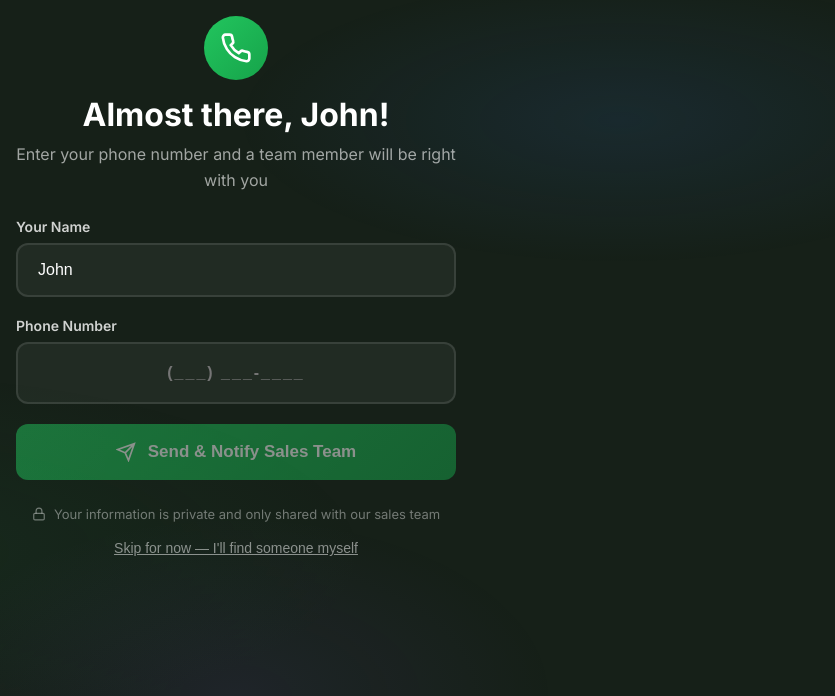
Test case: CustomerHandoff Component › Phone Input Behavior › formats phone number as (xxx) xxx-xxxx
In the field with placeholder "(___) ___-____": (236, 373) [16, 342, 456, 404], type "6175551234"
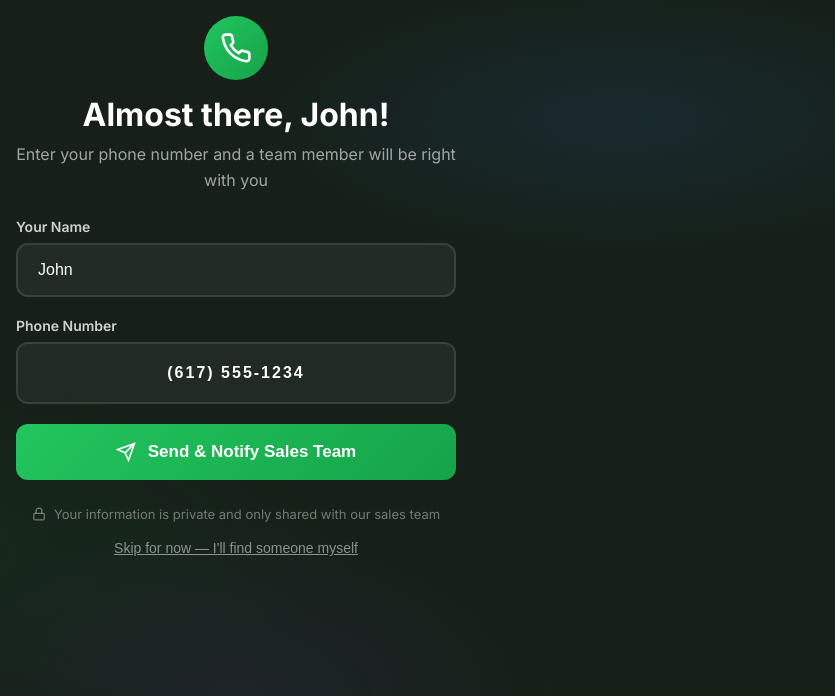
expect the 2nd field with placeholder "(___) ___-____" holds "(617) 555-1234": met, box [16, 342, 456, 404]
